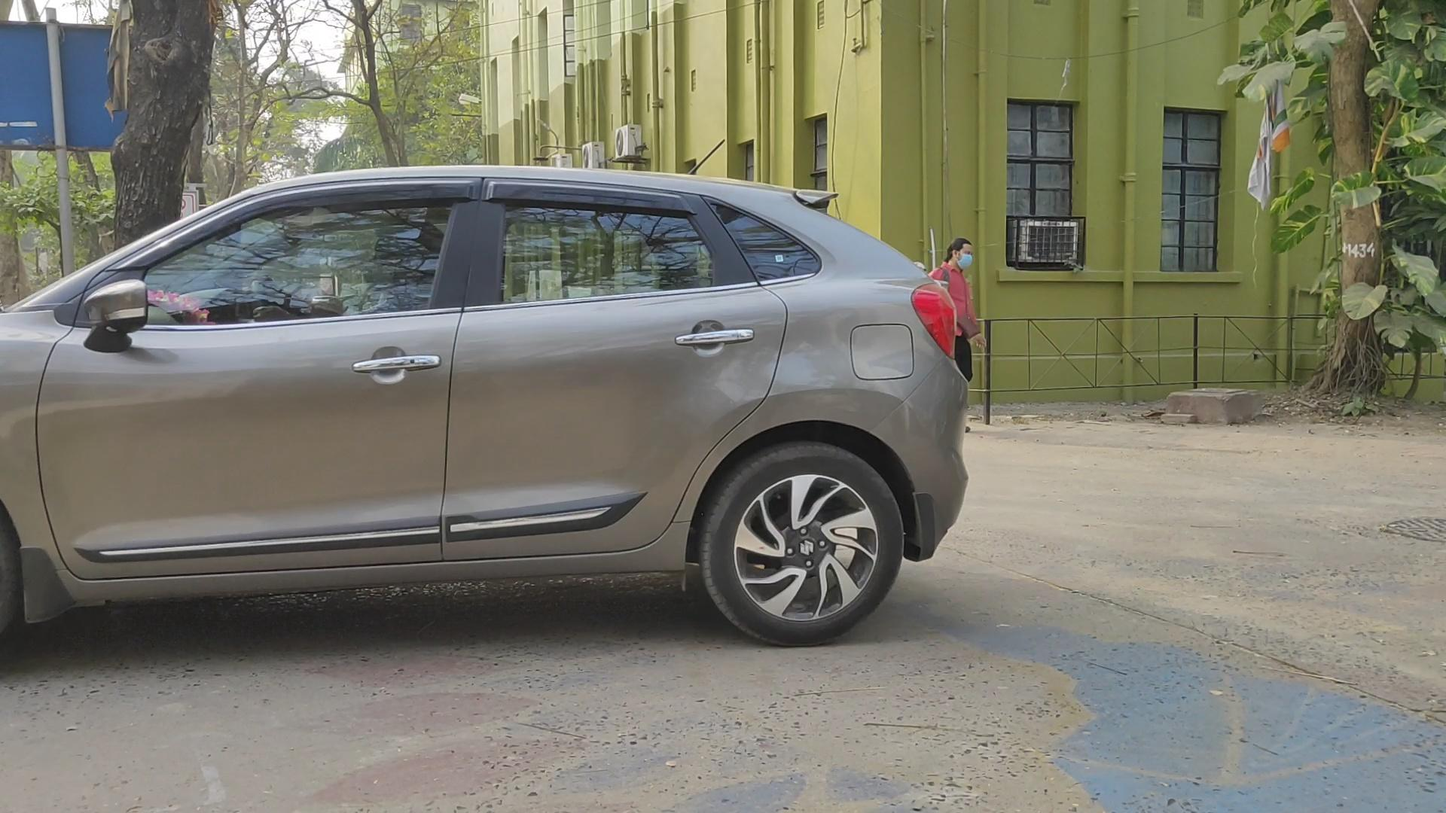car: (2, 166, 970, 650)
